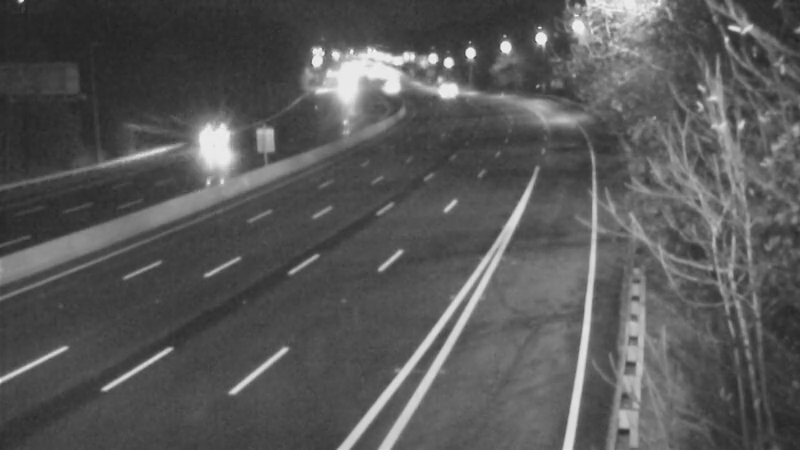vehicle: (363, 60, 413, 110), (419, 65, 469, 115), (205, 107, 255, 157)
